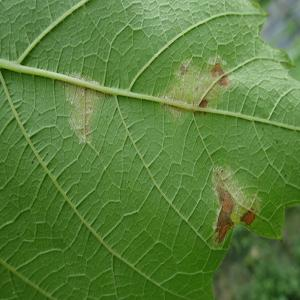Folha: (0, 0, 299, 299)
Fungo: (159, 56, 231, 120), (210, 163, 258, 246), (63, 70, 105, 144), (211, 168, 235, 244), (210, 61, 230, 87), (241, 209, 255, 226), (198, 98, 208, 115)
